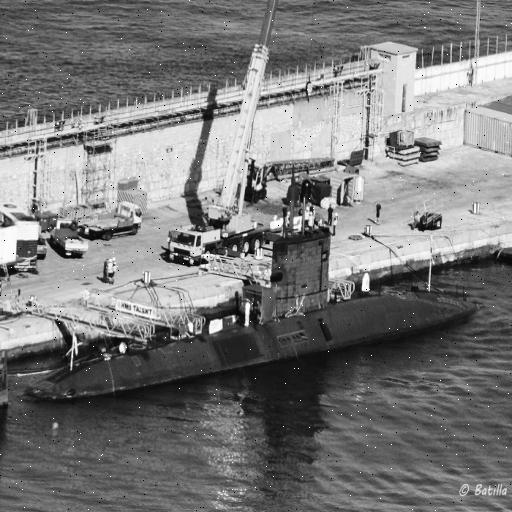submarine: (19, 207, 461, 406)
